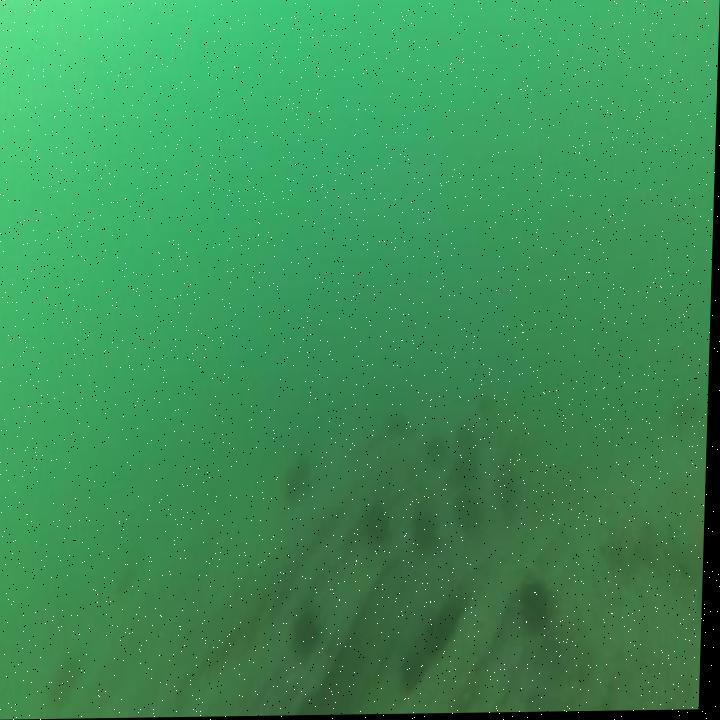echinus: (420, 595, 466, 665), (48, 646, 88, 719), (520, 575, 558, 648), (359, 493, 396, 561), (669, 386, 711, 444), (293, 601, 329, 667), (451, 483, 488, 539), (285, 451, 316, 510), (411, 510, 442, 566), (402, 647, 431, 699), (451, 448, 485, 487), (384, 408, 414, 447), (453, 421, 482, 457), (428, 430, 451, 473)
